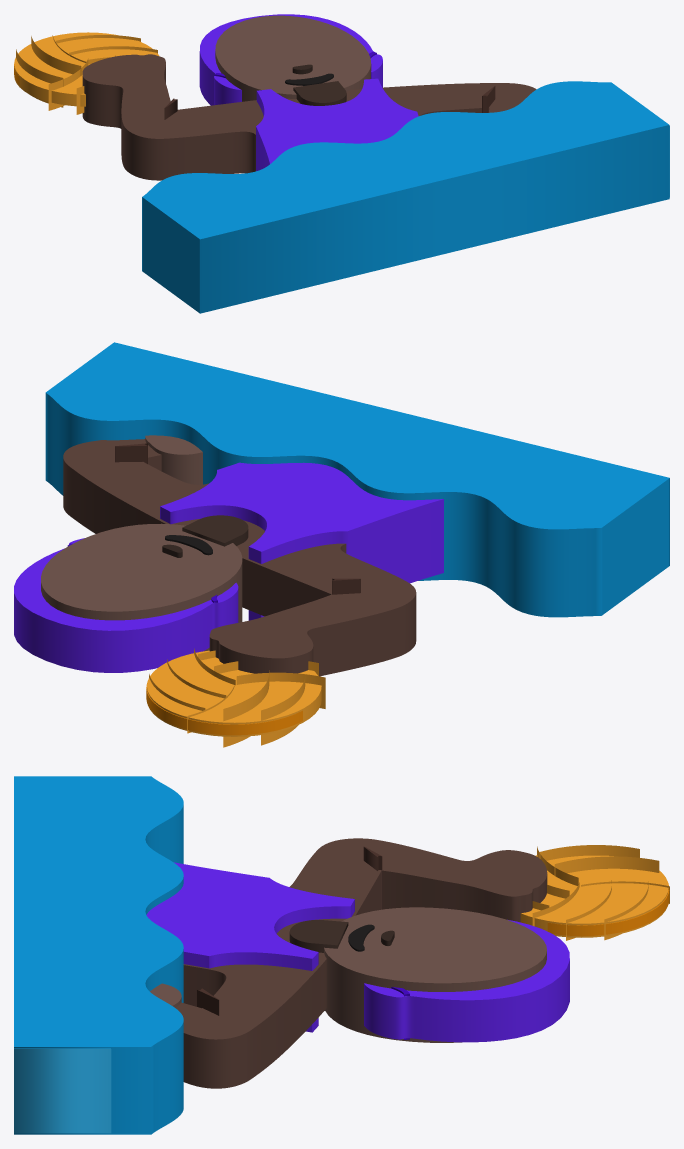
The model's file is emoji_u1f93d_1f3ff_200d_2640.glb.
The picture shows the model from 3 angles, top to bottom: view 1: azimuth 30°, elevation 25°; view 2: azimuth 150°, elevation 25°; view 3: azimuth 270°, elevation 25°; orthographic projection. The views are drawn at different scales.
Parts seen in each view (by area): view 1: emoji_u1f93d_1f3ff_200d_2640; view 2: emoji_u1f93d_1f3ff_200d_2640; view 3: emoji_u1f93d_1f3ff_200d_2640.
Boxes of the visible parts, x1,y1,x2,y2 form: emoji_u1f93d_1f3ff_200d_2640: (14,14,669,313); emoji_u1f93d_1f3ff_200d_2640: (14,342,669,747); emoji_u1f93d_1f3ff_200d_2640: (14,776,669,1134).
Size of the model in its own units: 0.0331 by 0.005 by 0.0338.
